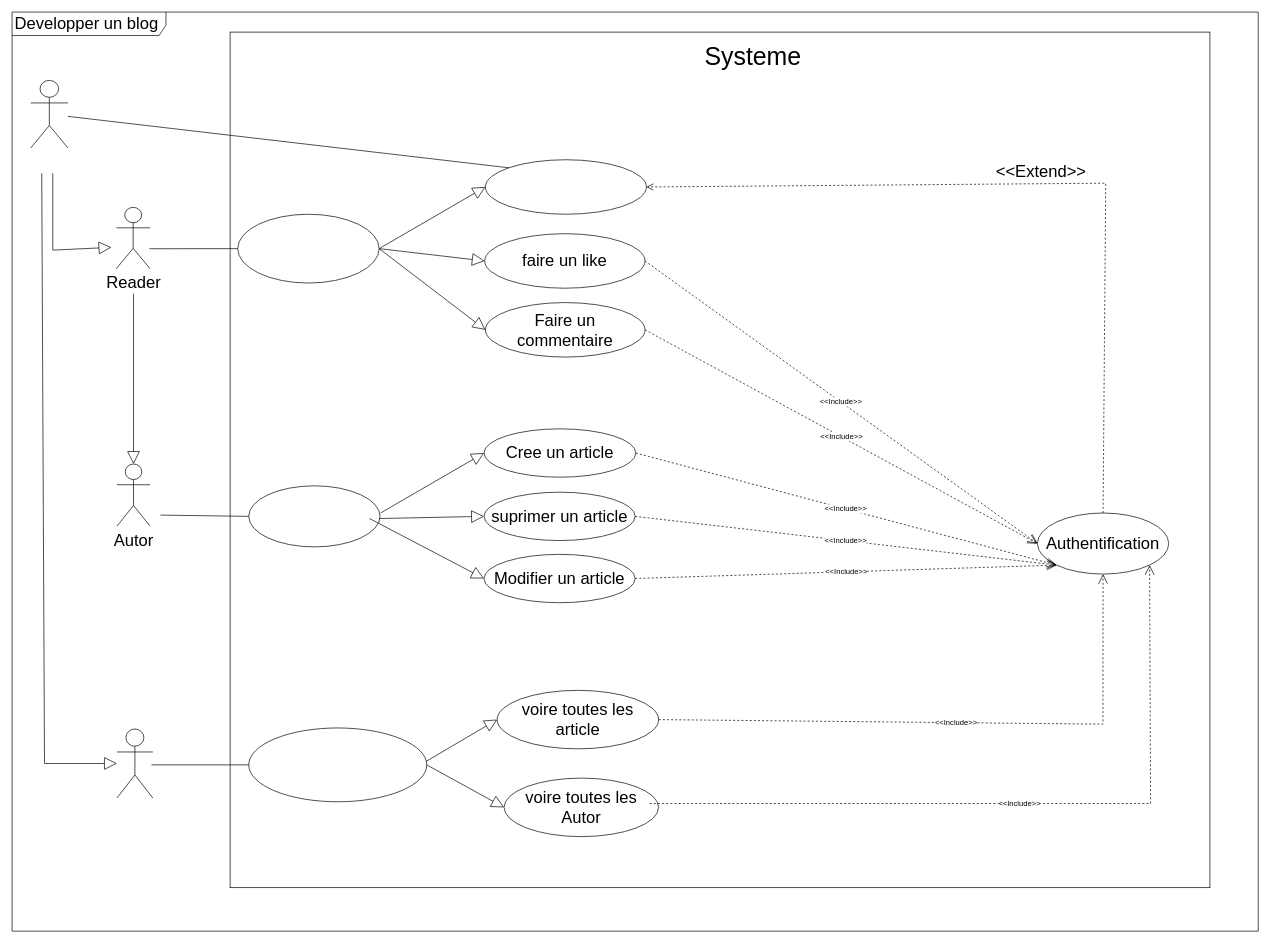
This 1270x943 diagram has some shape labels left out. Each missing label, with the box of its shape:
Acces au contenue: (237, 214, 379, 283)
Admin: (116, 728, 153, 798)
Gestion de contenue: (248, 485, 380, 547)
Gestion globale de systeme: (248, 727, 427, 802)
lire les Articles: (485, 159, 646, 214)
User: (30, 80, 68, 148)
